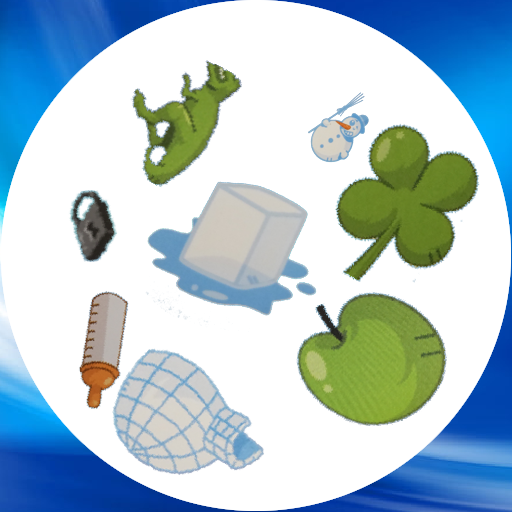apple_icon: (292, 289, 449, 446)
bottle_icon: (41, 289, 162, 410)
cloverleaf_icon: (303, 109, 481, 287)
cube_icon: (145, 142, 337, 334)
dino_icon: (124, 60, 259, 195)
igloo_icon: (110, 338, 274, 502)
lock_icon: (55, 190, 127, 262)
snowman_icon: (302, 88, 378, 164)
